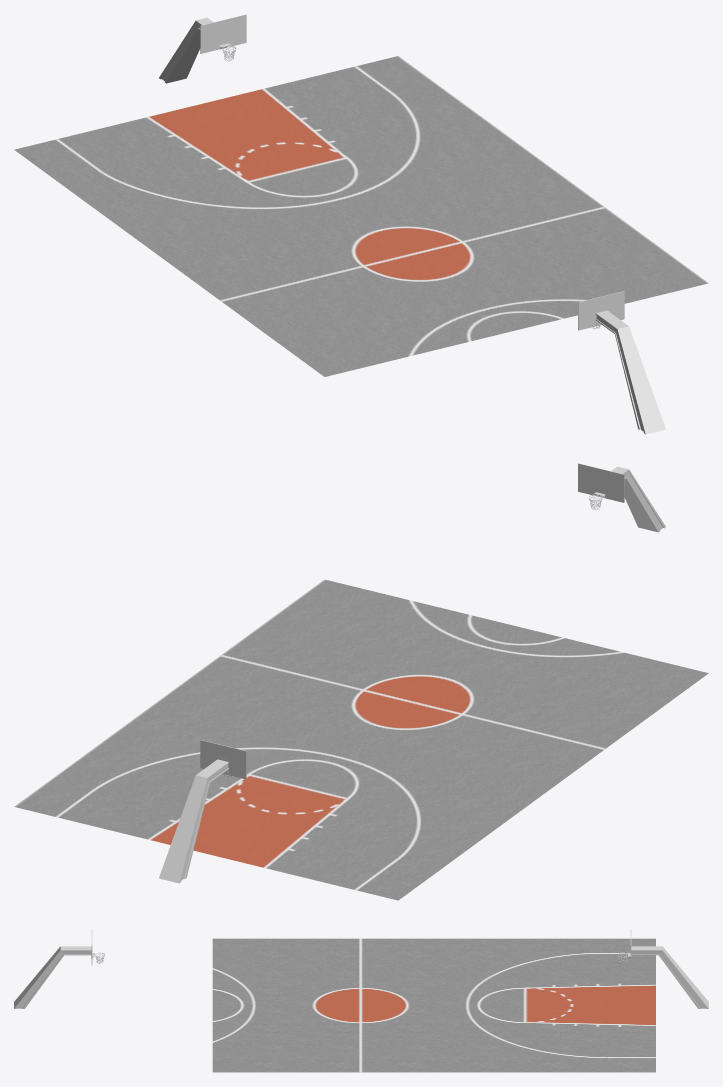
The model's file is Basketball Court.fbx.
The picture shows the model from 3 angles, top to bottom: view 1: azimuth 30°, elevation 25°; view 2: azimuth 150°, elevation 25°; view 3: azimuth 270°, elevation 25°; orthographic projection. The views are drawn at different scales.
Parts seen in each view (by area): view 1: Basketball, Basketball_Backboard.001, Basketball_Backboard; view 2: Basketball, Basketball_Backboard, Basketball_Backboard.001; view 3: Basketball, Basketball_Backboard, Basketball_Backboard.001.
Part boxes in pixels (<box>): Basketball: <box>14,56,708,376</box>; Basketball_Backboard.001: <box>578,291,665,434</box>; Basketball_Backboard: <box>159,14,246,83</box>; Basketball: <box>14,579,708,900</box>; Basketball_Backboard: <box>159,740,246,883</box>; Basketball_Backboard.001: <box>578,463,665,532</box>; Basketball: <box>212,938,655,1072</box>; Basketball_Backboard: <box>630,929,708,1008</box>; Basketball_Backboard.001: <box>14,929,92,1008</box>.
Size of the model in its own units: 1500 by 356 by 3292.
